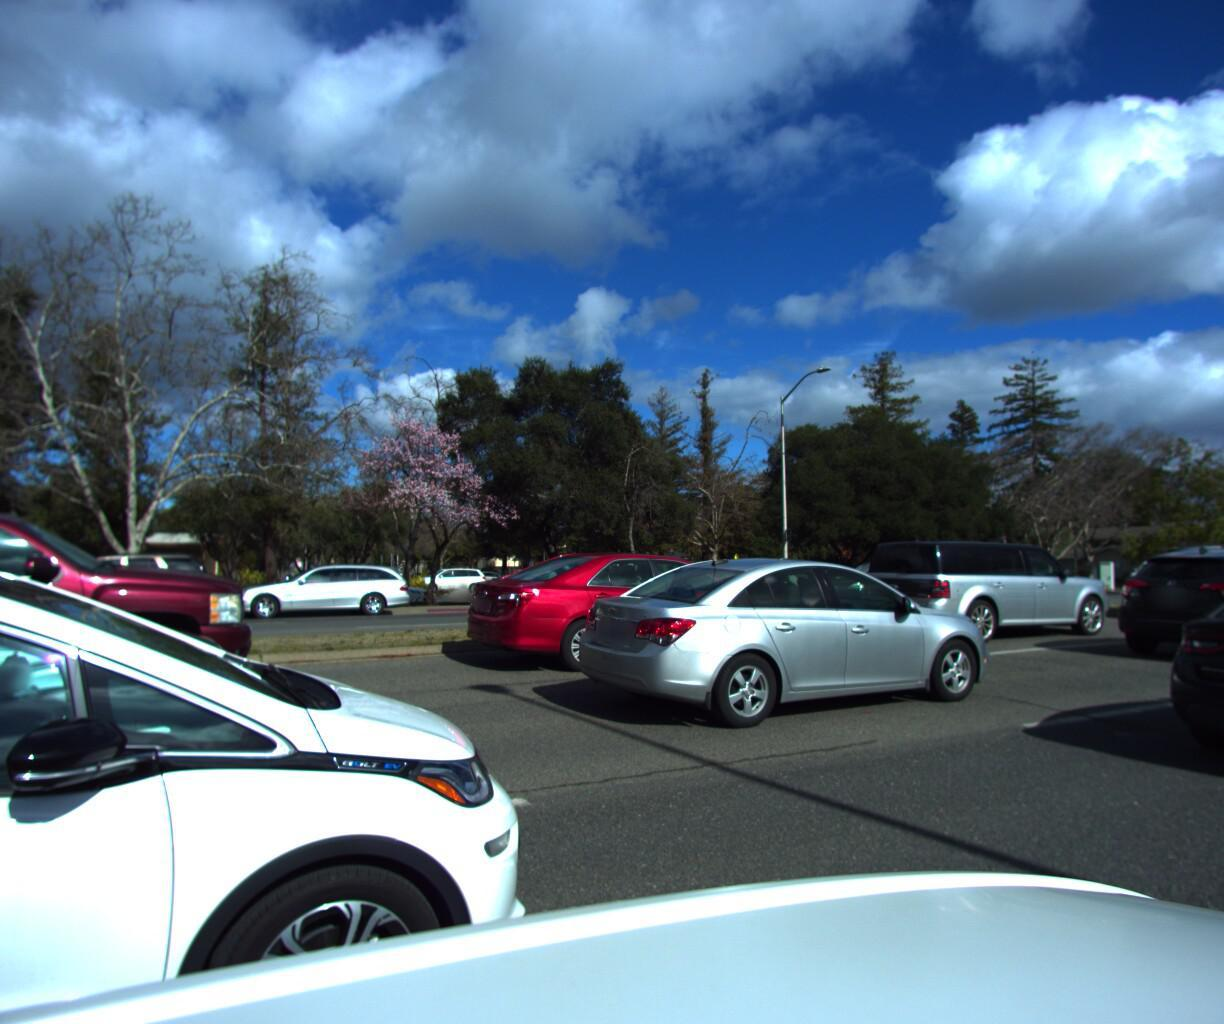car: (0, 293, 546, 1024), (0, 456, 244, 1001), (543, 558, 1008, 745), (0, 470, 264, 785), (460, 552, 816, 681), (850, 537, 1129, 651), (1143, 527, 1224, 819), (0, 554, 222, 635), (1099, 542, 1224, 671), (225, 564, 418, 629), (1126, 536, 1224, 625)
